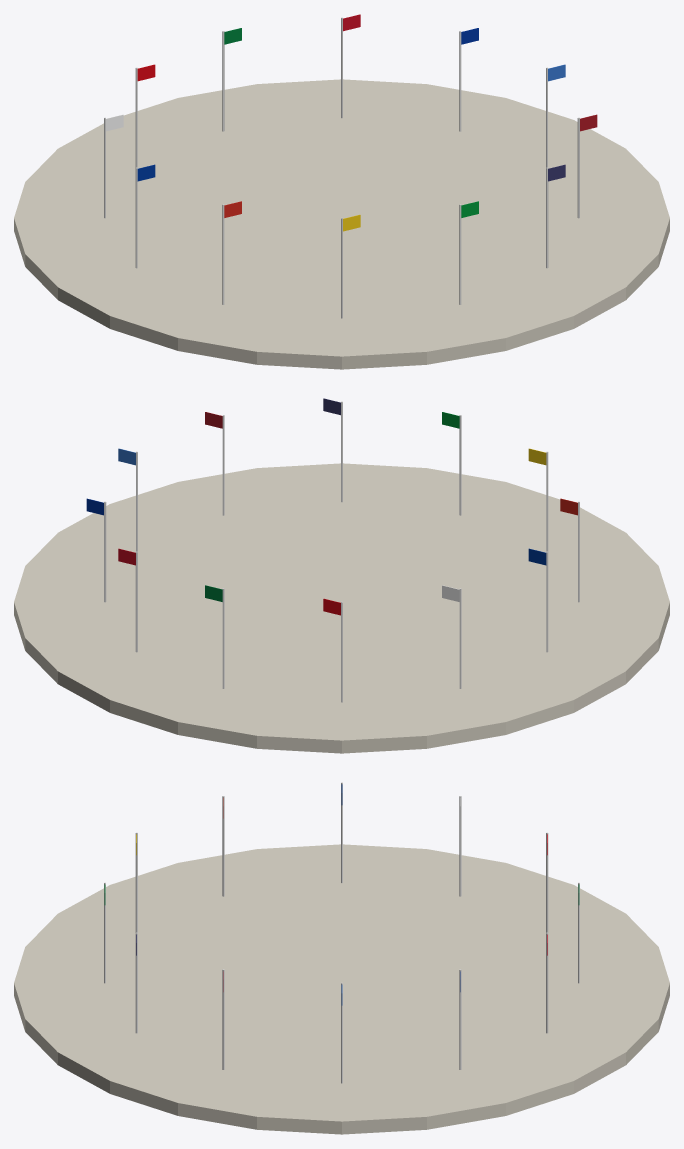
File: rb_airportflags.glb
3 views of the same model, one above another, from view 1: azimuth 30°, elevation 25°; view 2: azimuth 150°, elevation 25°; view 3: azimuth 270°, elevation 25° (orthographic).
Visible parts, largest first — view 1: rb_airportflags_lod0; view 2: rb_airportflags_lod0; view 3: rb_airportflags_lod0.
Part boxes in pixels (bbox=[...]): rb_airportflags_lod0: bbox=[14, 14, 669, 369]; rb_airportflags_lod0: bbox=[14, 398, 669, 753]; rb_airportflags_lod0: bbox=[14, 782, 669, 1134].
Size of what is drawn, in the model's own units: 52.6 by 10 by 52.6.
